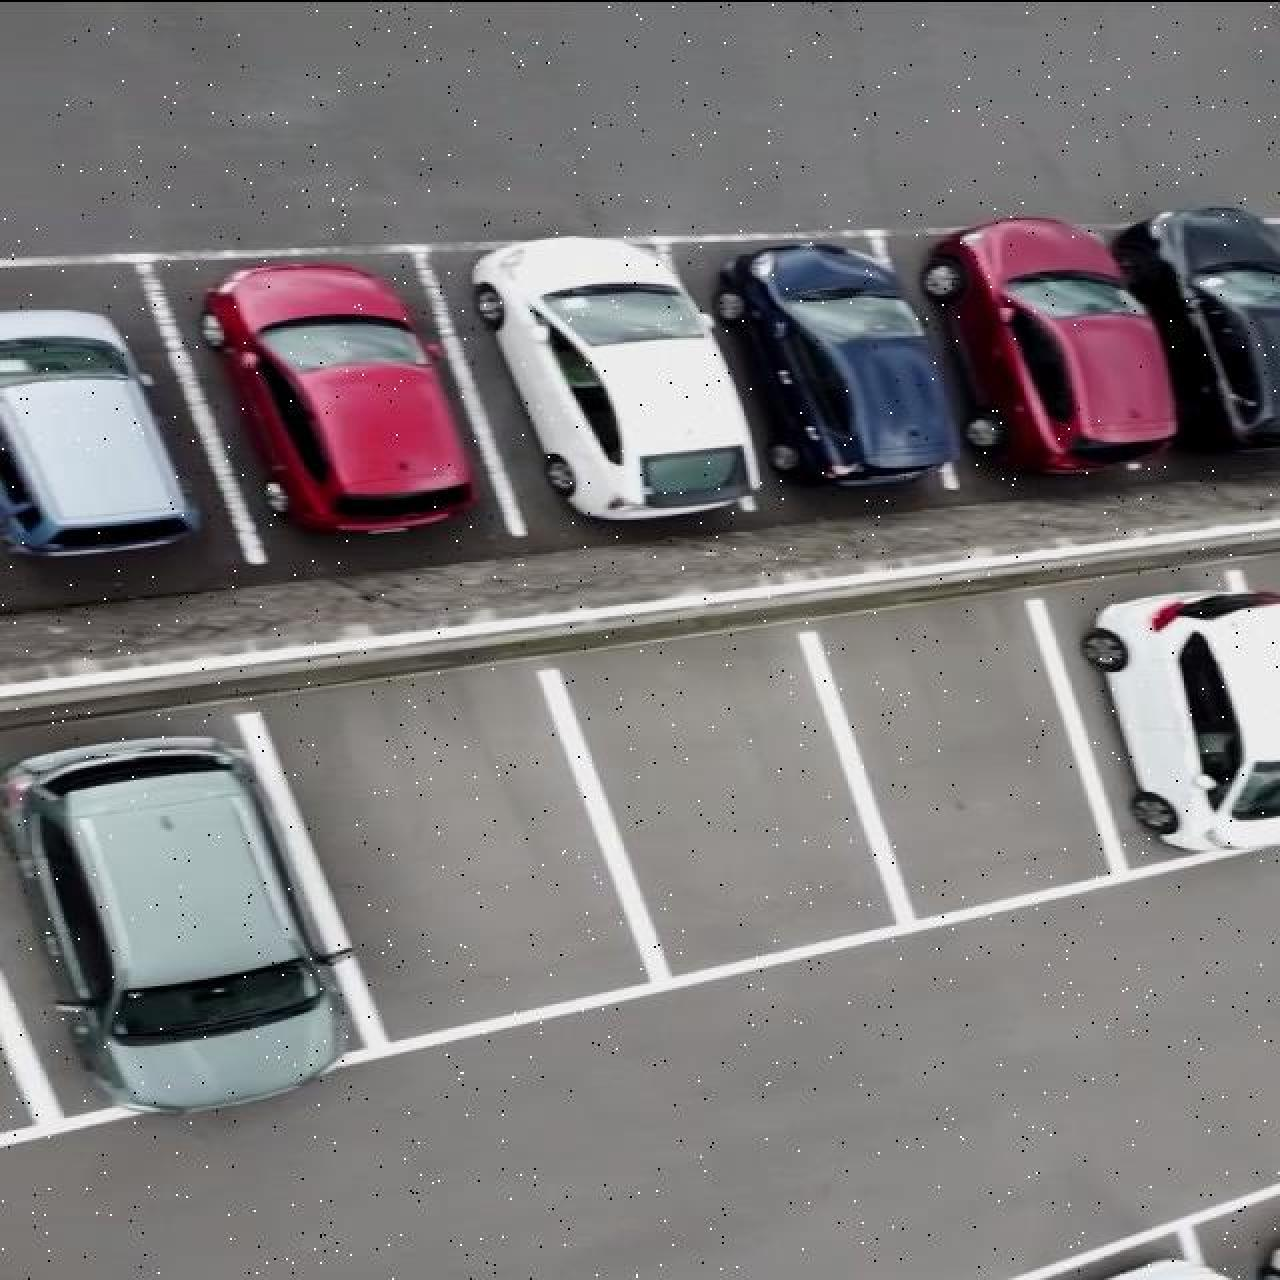car: (0, 731, 346, 1114), (470, 232, 762, 522), (198, 258, 476, 535), (920, 215, 1178, 476), (714, 238, 960, 488), (1080, 586, 1278, 855), (0, 306, 195, 558), (1110, 202, 1278, 445)
